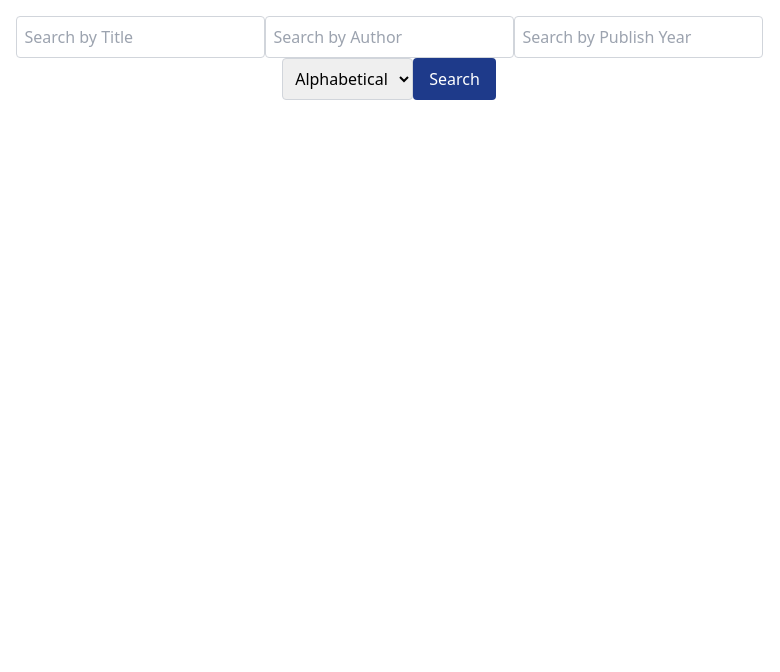
Launch All Tests › AdvancedResearchAlt component › shouldRendersBooks_whenSearchReturnsResults
Click the button "Search" at coordinates (454, 79), box [413,58,496,100]
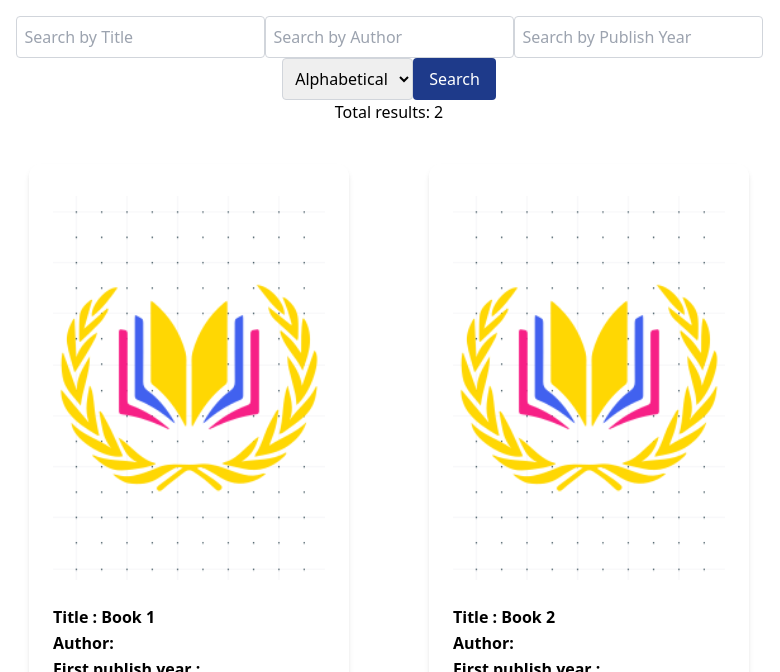
Result: the text "Total results: 2" is shown at [335,101,443,123]
